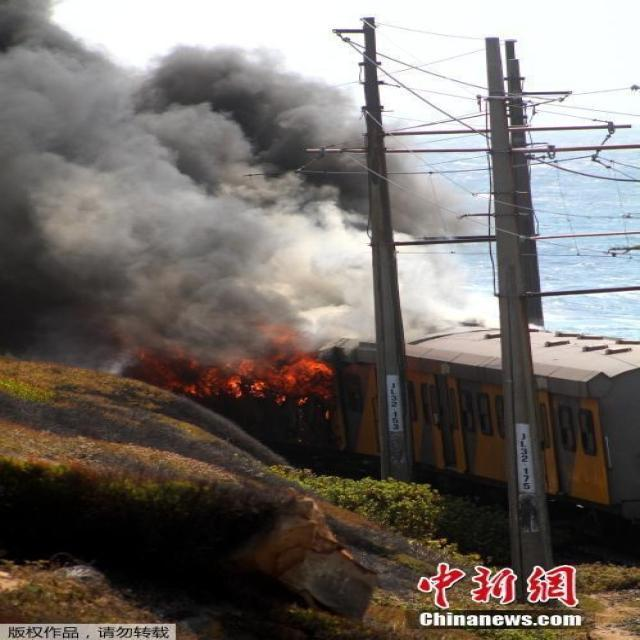Fire: (136, 346, 336, 404)
Smoke: (2, 2, 500, 377)
